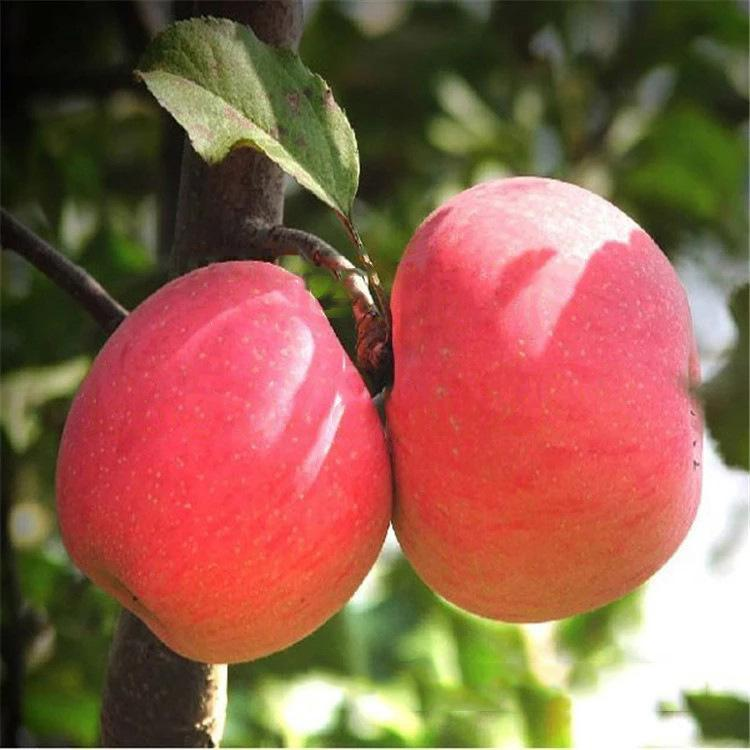apple: (54, 259, 400, 674), (385, 177, 699, 621)
